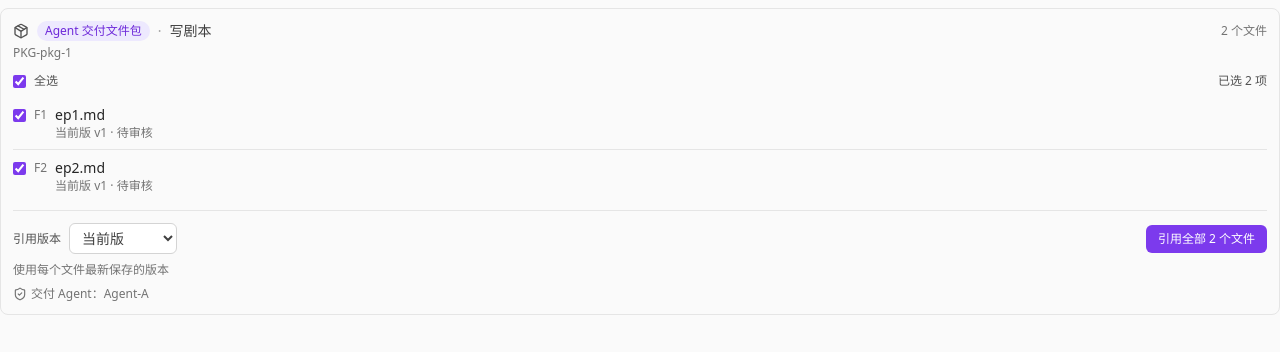
文件包统一引用 › 默认全选与当前版，整包保留 revision fence；没有重复引用入口
Expected: the checkbox named "全选文件" is checked, left=13, top=74, right=26, bottom=88
Click the button "引用全部 2 个文件". click: point(1206, 238)
box: left=1146, top=224, right=1267, bottom=252
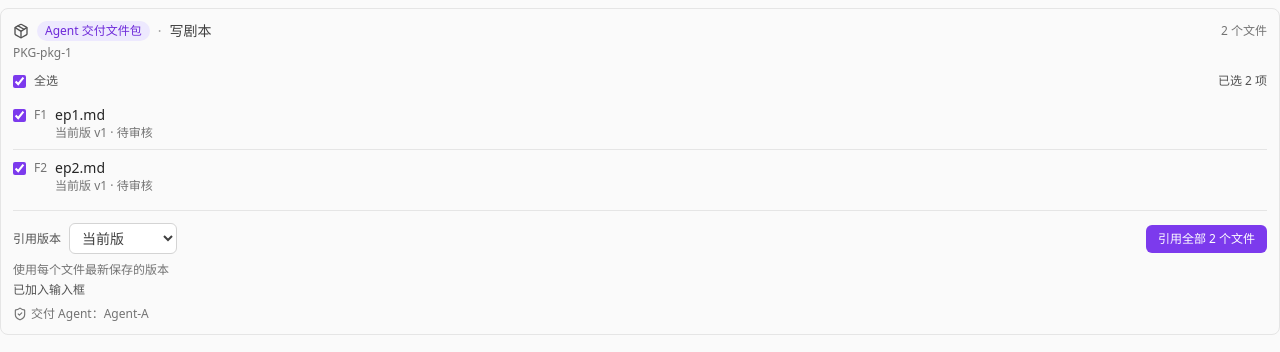
Expected: the text "PKG-pkg-1" is shown, left=13, top=44, right=72, bottom=61
Result: the message reads "已加入输入框" at left=13, top=281, right=85, bottom=298
